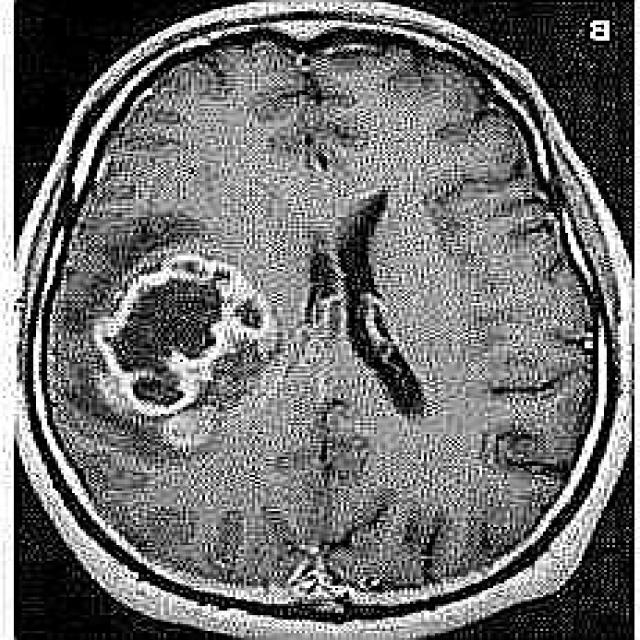Tumor-Cell: (77, 234, 280, 415)
